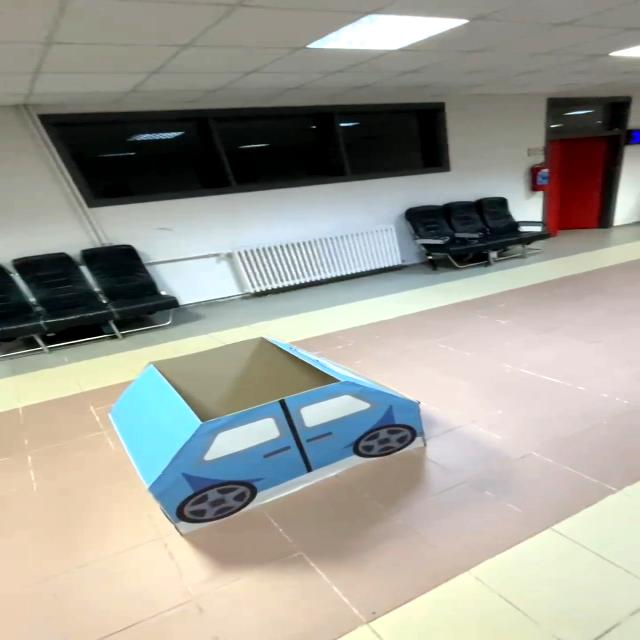blue_car: (91, 334, 463, 532)
